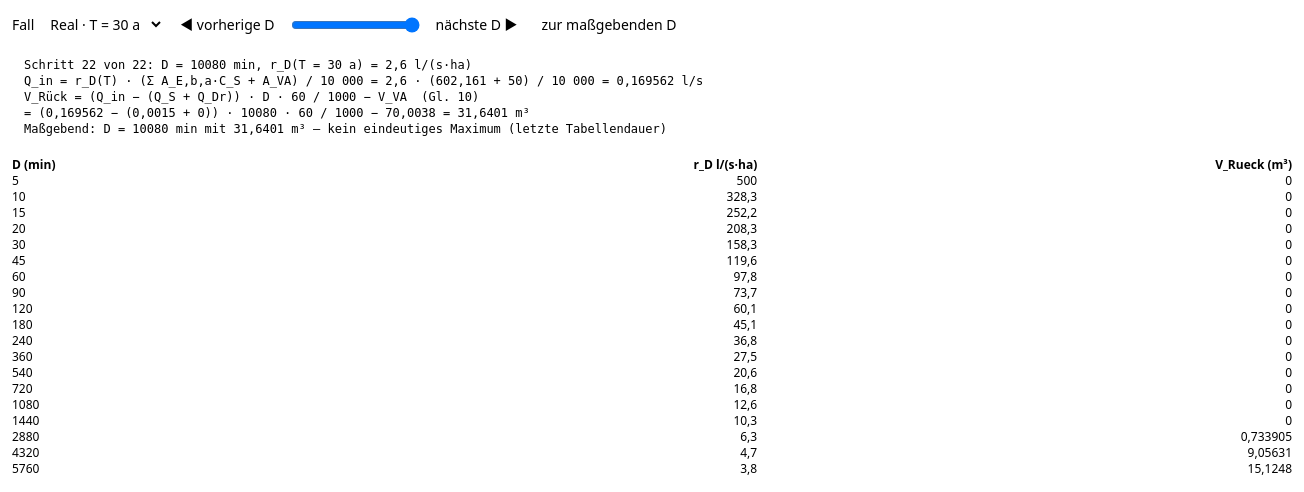
Test case: ScenarioStepThrough › starts at the governing D, steps, jumps back, switches case
Click the button "◀ vorherige D" at coordinates (228, 24), box [172,14,283,34]
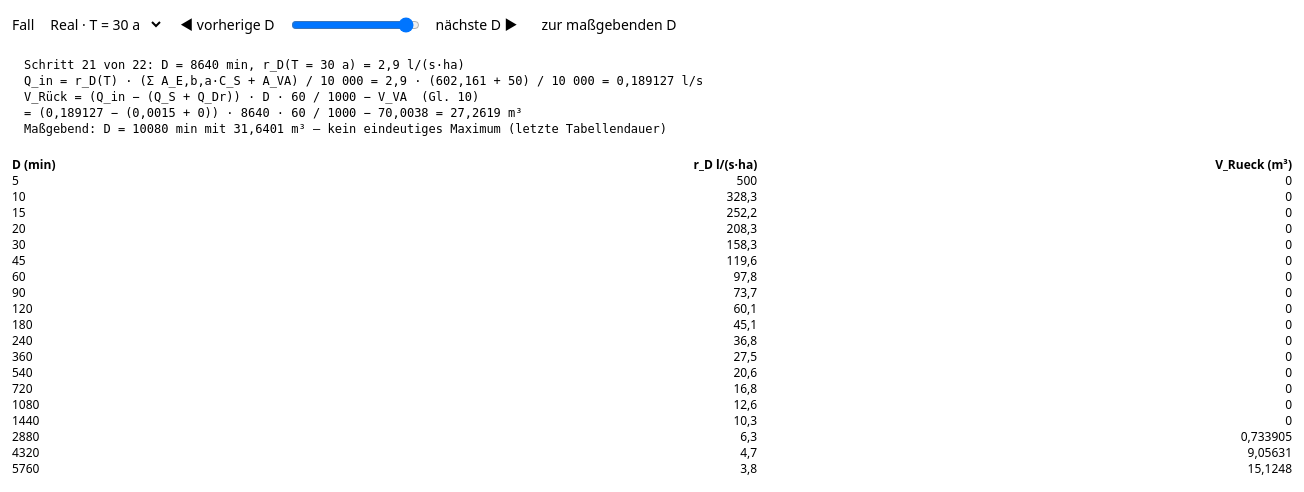
Click the button "zur maßgebenden D" at coordinates (609, 24), box [533,14,684,34]
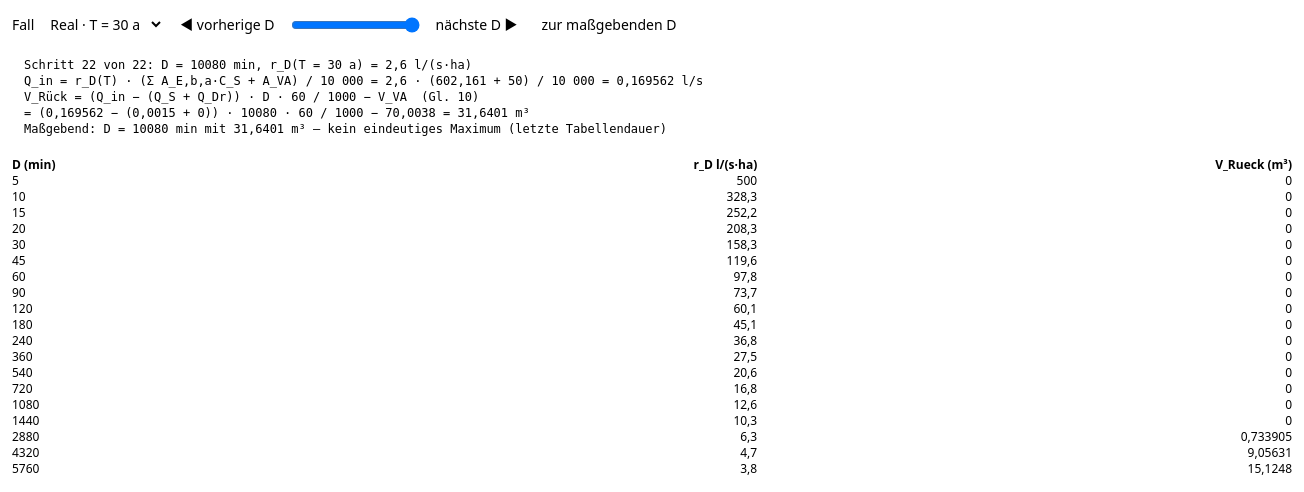
Select "K5 · T = 30 a" in the dropdown labelled "Fall" at coordinates (101, 24), box [38,12,164,37]
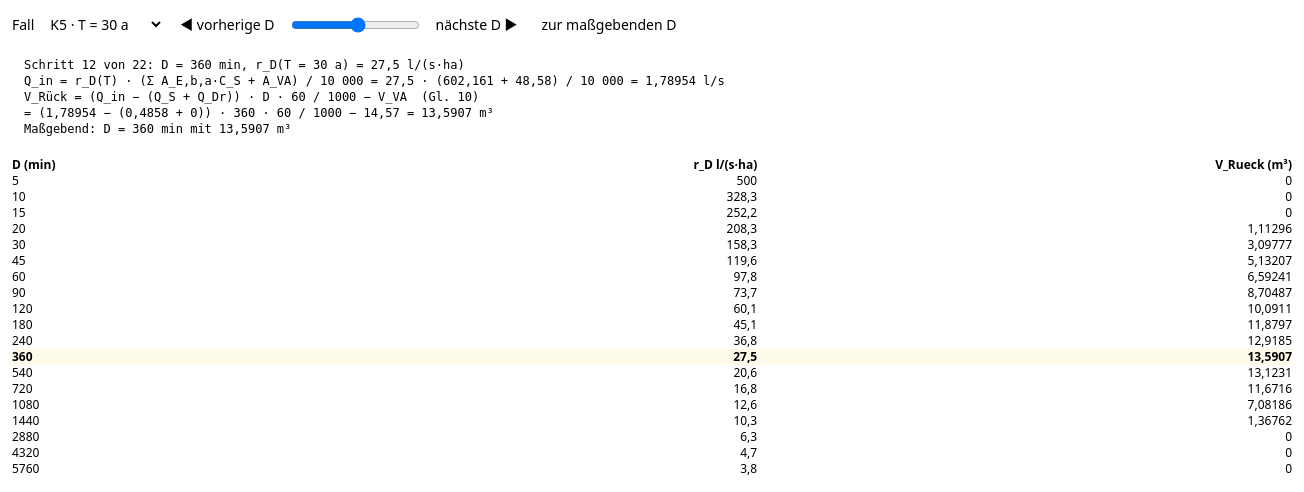
Check: the row "360 27,5 13,5907" is shown, box [12,349,1292,365]
Check: the text with test id "step-formula" shows "13,5907 m³", box [24,58,725,136]
